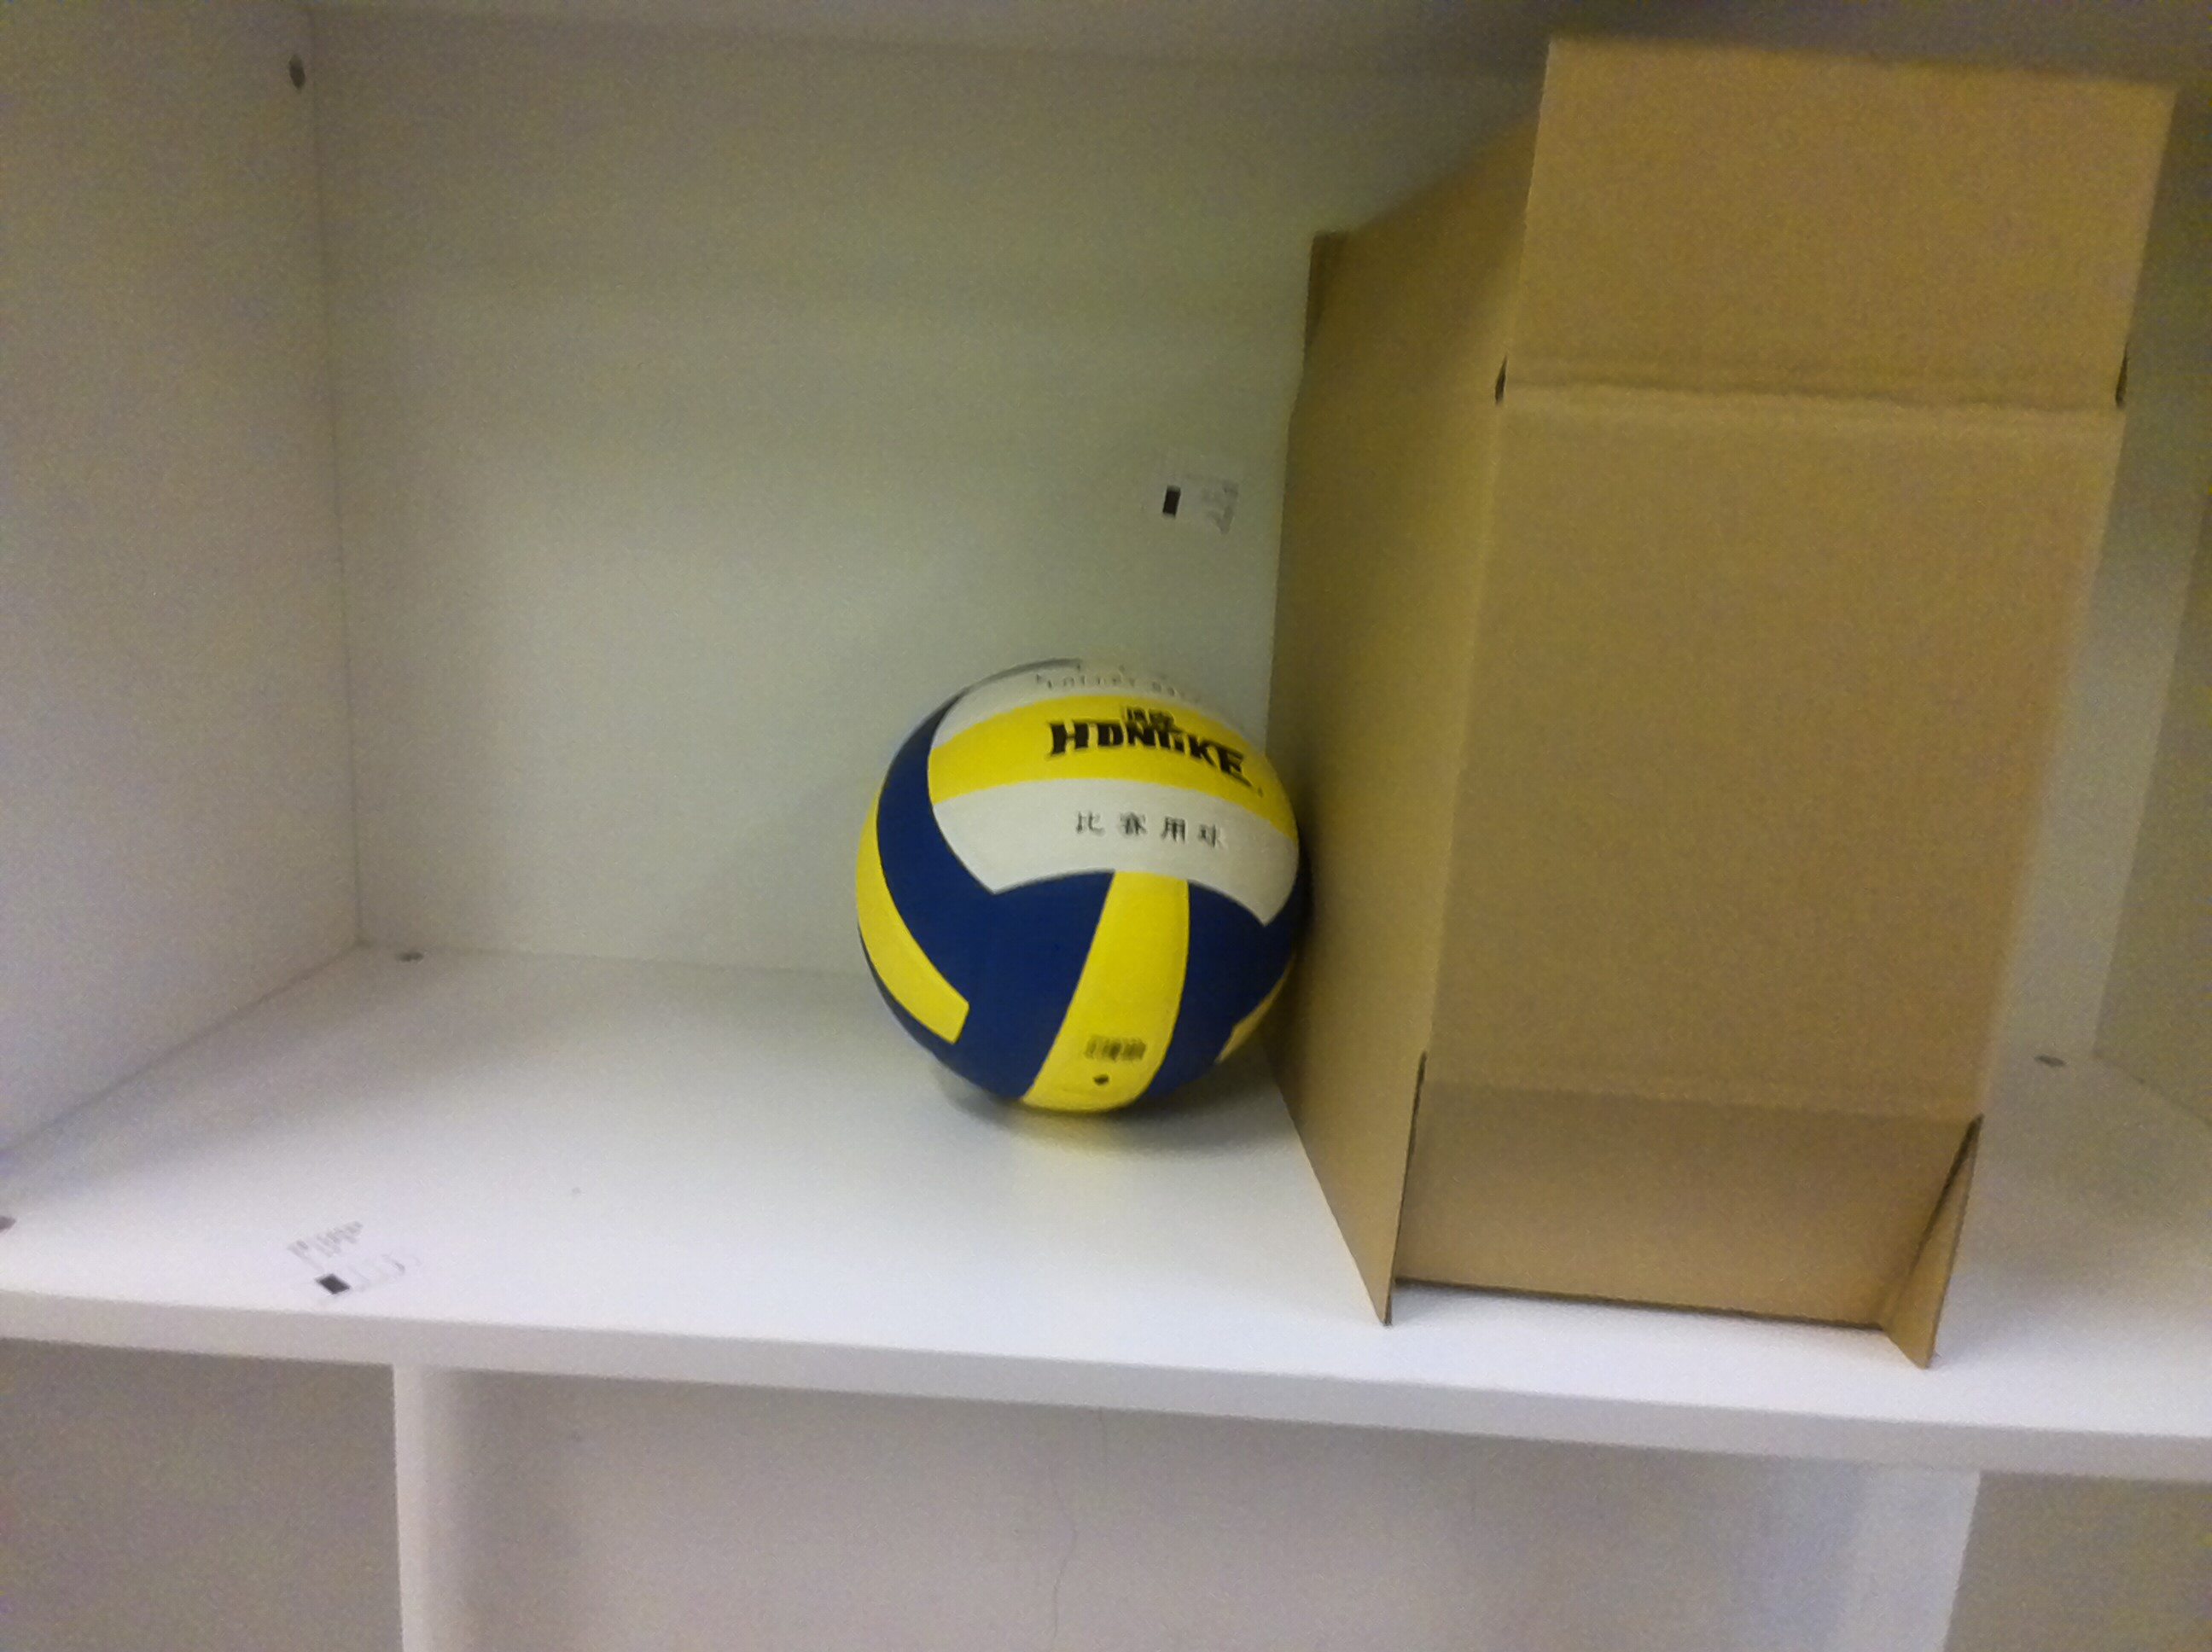volleyball: (836, 646, 1313, 1152)
